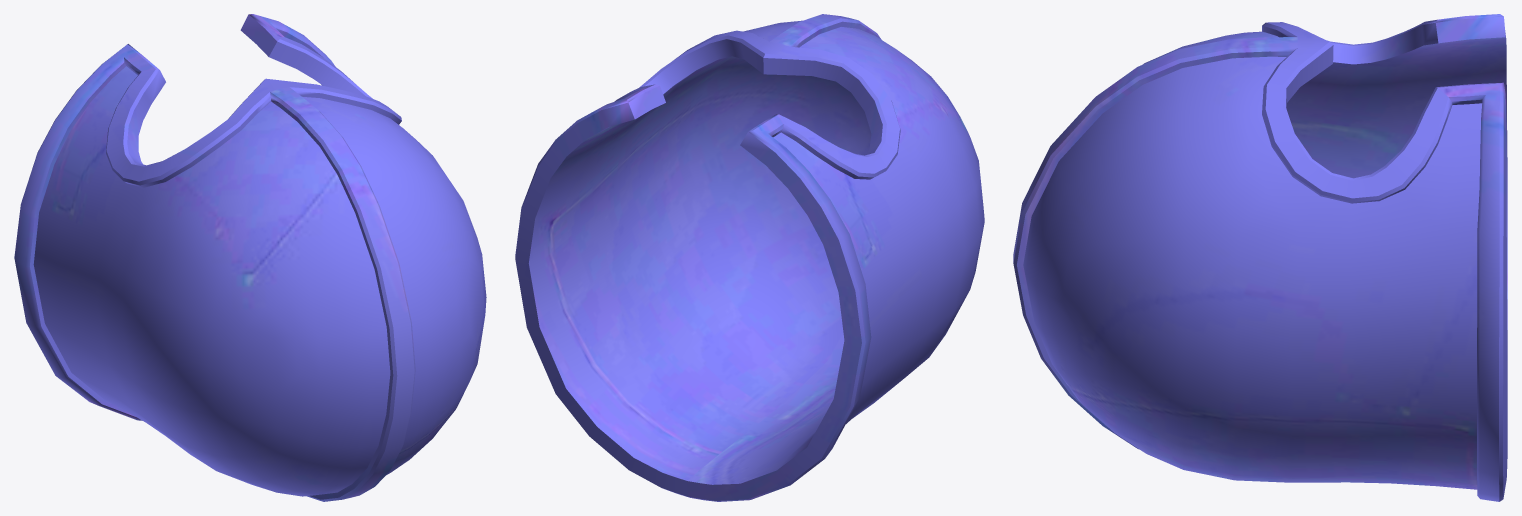
Rendered from Headwear61.glb.
3 renders of one model, left to right at view 1: azimuth 30°, elevation 25°; view 2: azimuth 150°, elevation 25°; view 3: azimuth 270°, elevation 25°, orthographic. The views are drawn at different scales.
Visible parts, largest first — view 1: Headwear61; view 2: Headwear61; view 3: Headwear61.
Boxes of the visible parts, bbox=[...] form: Headwear61: bbox=[14, 14, 486, 501]; Headwear61: bbox=[515, 14, 984, 501]; Headwear61: bbox=[1013, 14, 1507, 501].
Bounding box in the file's own units: 2.14 × 2.27 × 2.3.
1 material, 1 textured.
